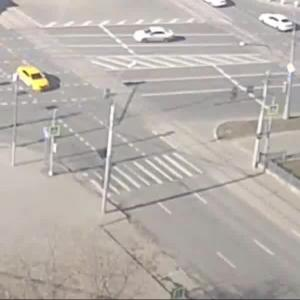car: (10, 62, 54, 91), (261, 10, 300, 34), (137, 26, 177, 46)
